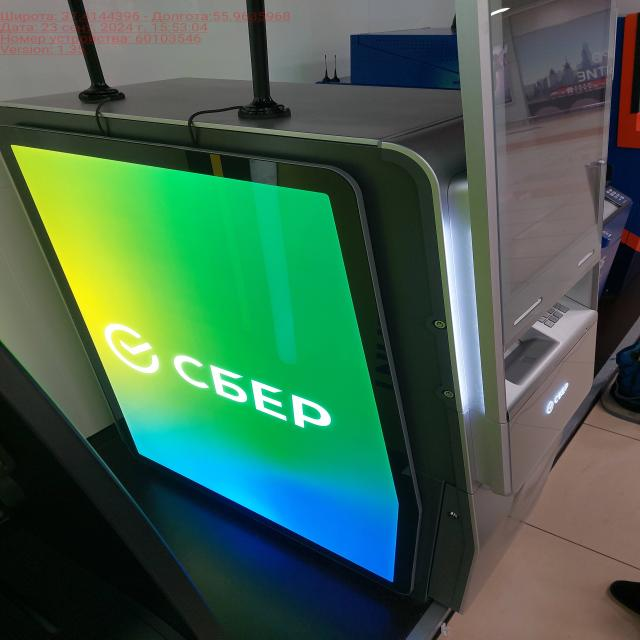bank: (0, 0, 600, 606)
